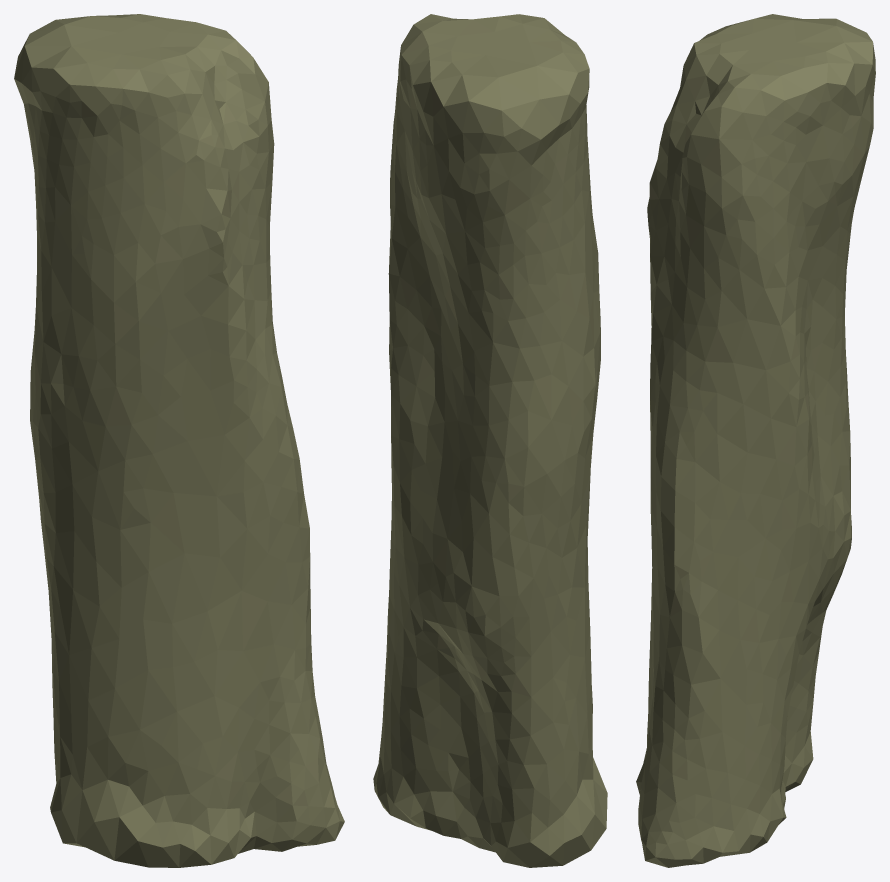
File: RockPillar06.fbx
3 renders of one model, left to right at view 1: azimuth 30°, elevation 25°; view 2: azimuth 150°, elevation 25°; view 3: azimuth 270°, elevation 25°, orthographic. The views are drawn at different scales.
Visible parts, largest first — view 1: RockPillar06; view 2: RockPillar06; view 3: RockPillar06.
Part boxes in pixels (box(x1,y1,x2,y2)): RockPillar06: box(14, 14, 344, 867); RockPillar06: box(373, 14, 607, 867); RockPillar06: box(636, 14, 875, 867).
Size of the model in its own units: 0.6383 by 1.99 by 0.5702.
